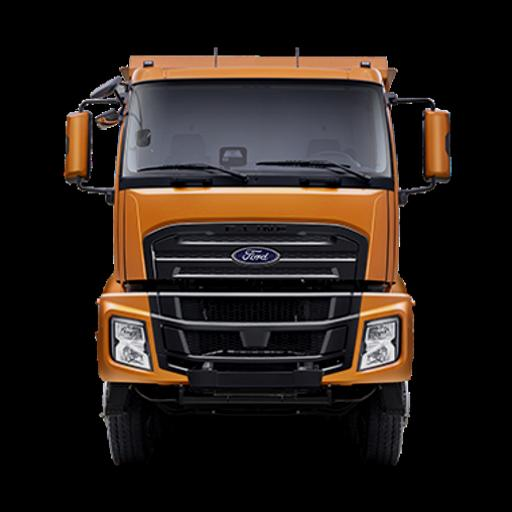truck: (64, 52, 454, 475)
